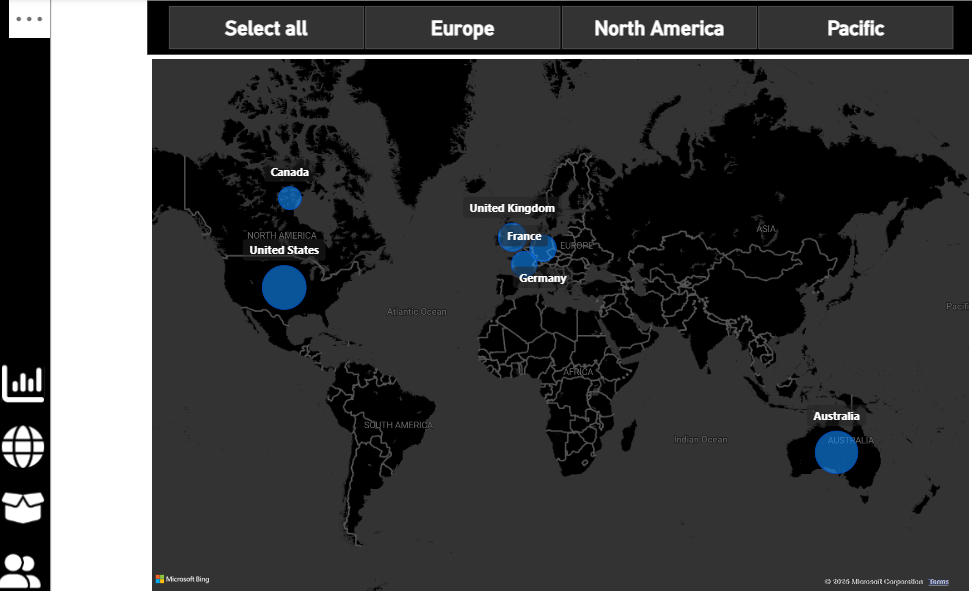

What the dashboard file says about the page in this screenshot:
{"tool":"powerbi","page":{"name":"Map","canvas":[1280,720],"ordinal":1},"visuals":[{"type":"shape","box":[0,0,67.4,719.6],"z":0},{"type":"actionButton","box":[4.2,435.6,63.1,58.9],"z":0,"group":"g1"},{"type":"map","fields":{"Category":["Territory Lookup.Country"],"Size":["Measures Table.Total Revenue"]},"box":[183.1,69.4,993.3,650.3],"z":1000},{"type":"actionButton","box":[4.2,585,63.1,58.9],"z":1000,"group":"g1"},{"type":"slicer","fields":{"Values":["Territory Lookup.Continent"]},"box":[183.1,4.2,993.3,65.2],"z":2000},{"type":"actionButton","box":[0,660.8,63.1,58.9],"z":2000,"group":"g1"},{"type":"group","id":"g1","title":"Navigation Buttons","box":[0,435.6,67.3,284.1],"z":3000},{"type":"actionButton","box":[4.2,511.4,63.1,58.9],"z":3000,"group":"g1"}]}

Visuals, with their boxes on the page's 1280x720 design canvas (x1, y1, x2, y2). These are canvas units, not pixel positions in the 972x591 screenshot, which may show the page scaled, cropped or inside an application window:
shape: crop(0, 0, 67, 720)
actionButton: crop(4, 436, 67, 494)
map - Territory Lookup.Country x Measures Table.Total Revenue: crop(183, 69, 1176, 720)
actionButton: crop(4, 585, 67, 644)
slicer - Territory Lookup.Continent: crop(183, 4, 1176, 69)
actionButton: crop(0, 661, 63, 720)
"Navigation Buttons" group: crop(0, 436, 67, 720)
actionButton: crop(4, 511, 67, 570)
